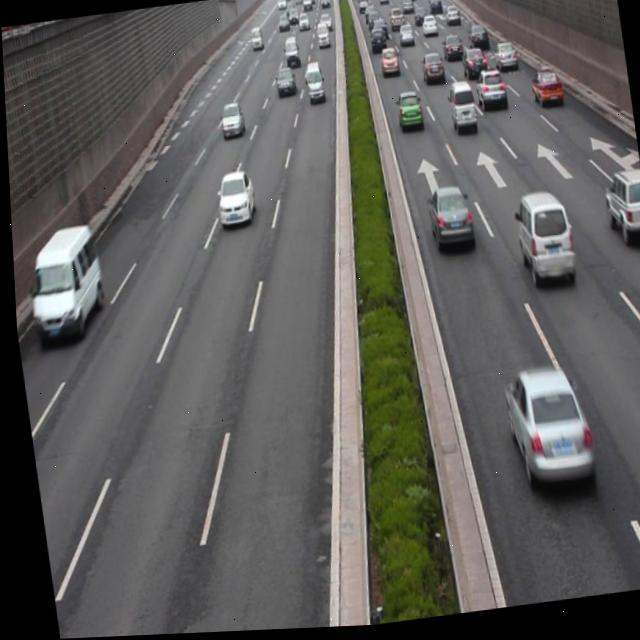car: (496, 369, 589, 498), (596, 172, 640, 255), (422, 189, 471, 257), (211, 170, 255, 229), (471, 71, 506, 118), (392, 92, 422, 137), (526, 73, 560, 110), (217, 102, 243, 140), (458, 49, 484, 85), (490, 45, 517, 77), (418, 56, 442, 89)
truck: (19, 223, 105, 346), (508, 192, 573, 299), (443, 83, 476, 141), (302, 62, 323, 105)
